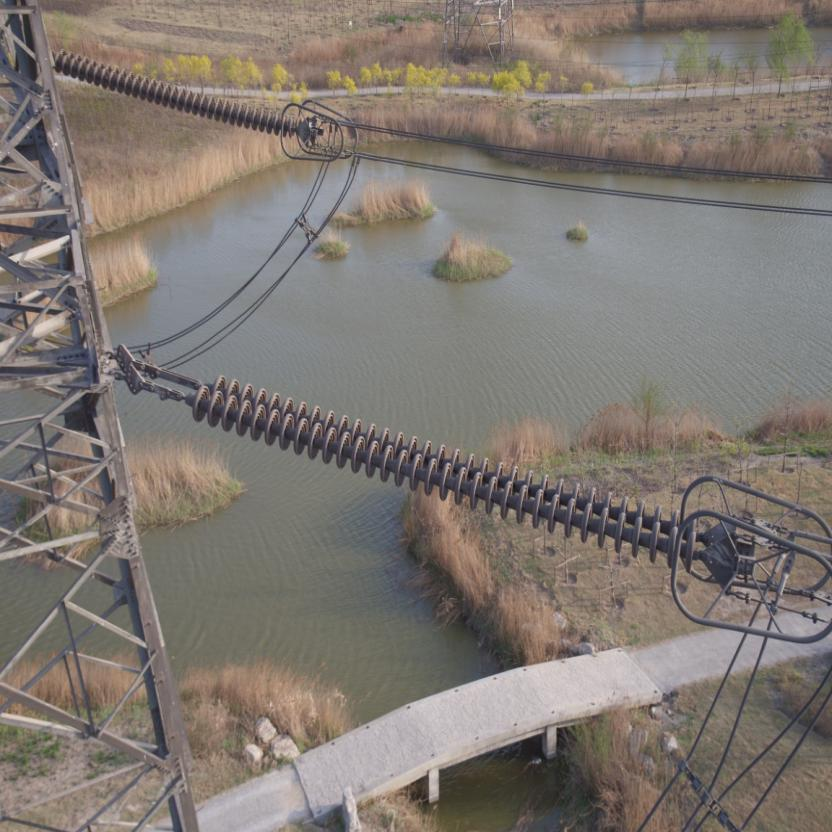insulator: (170, 366, 715, 574), (52, 45, 304, 141)
